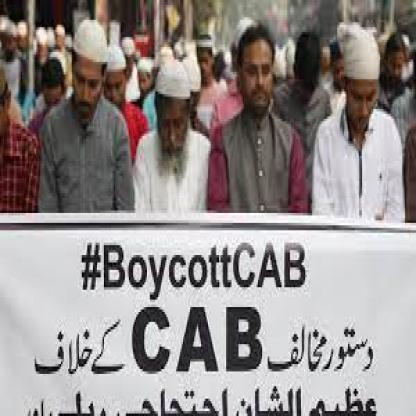BANNER: (0, 213, 416, 416)
